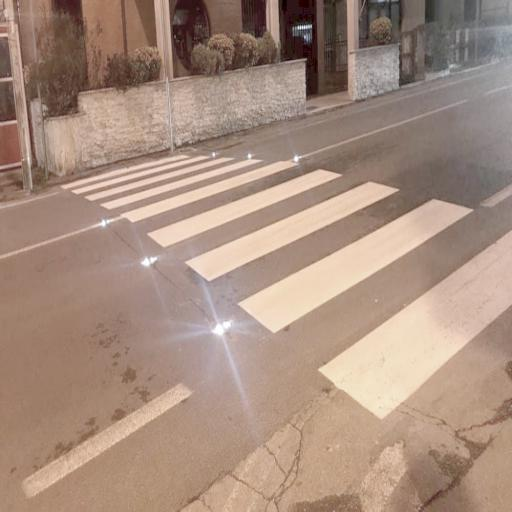crosswalk: (126, 162, 414, 284)
